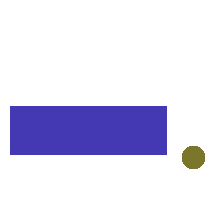circle: (182, 146, 204, 168)
rectangle: (10, 106, 166, 154)
